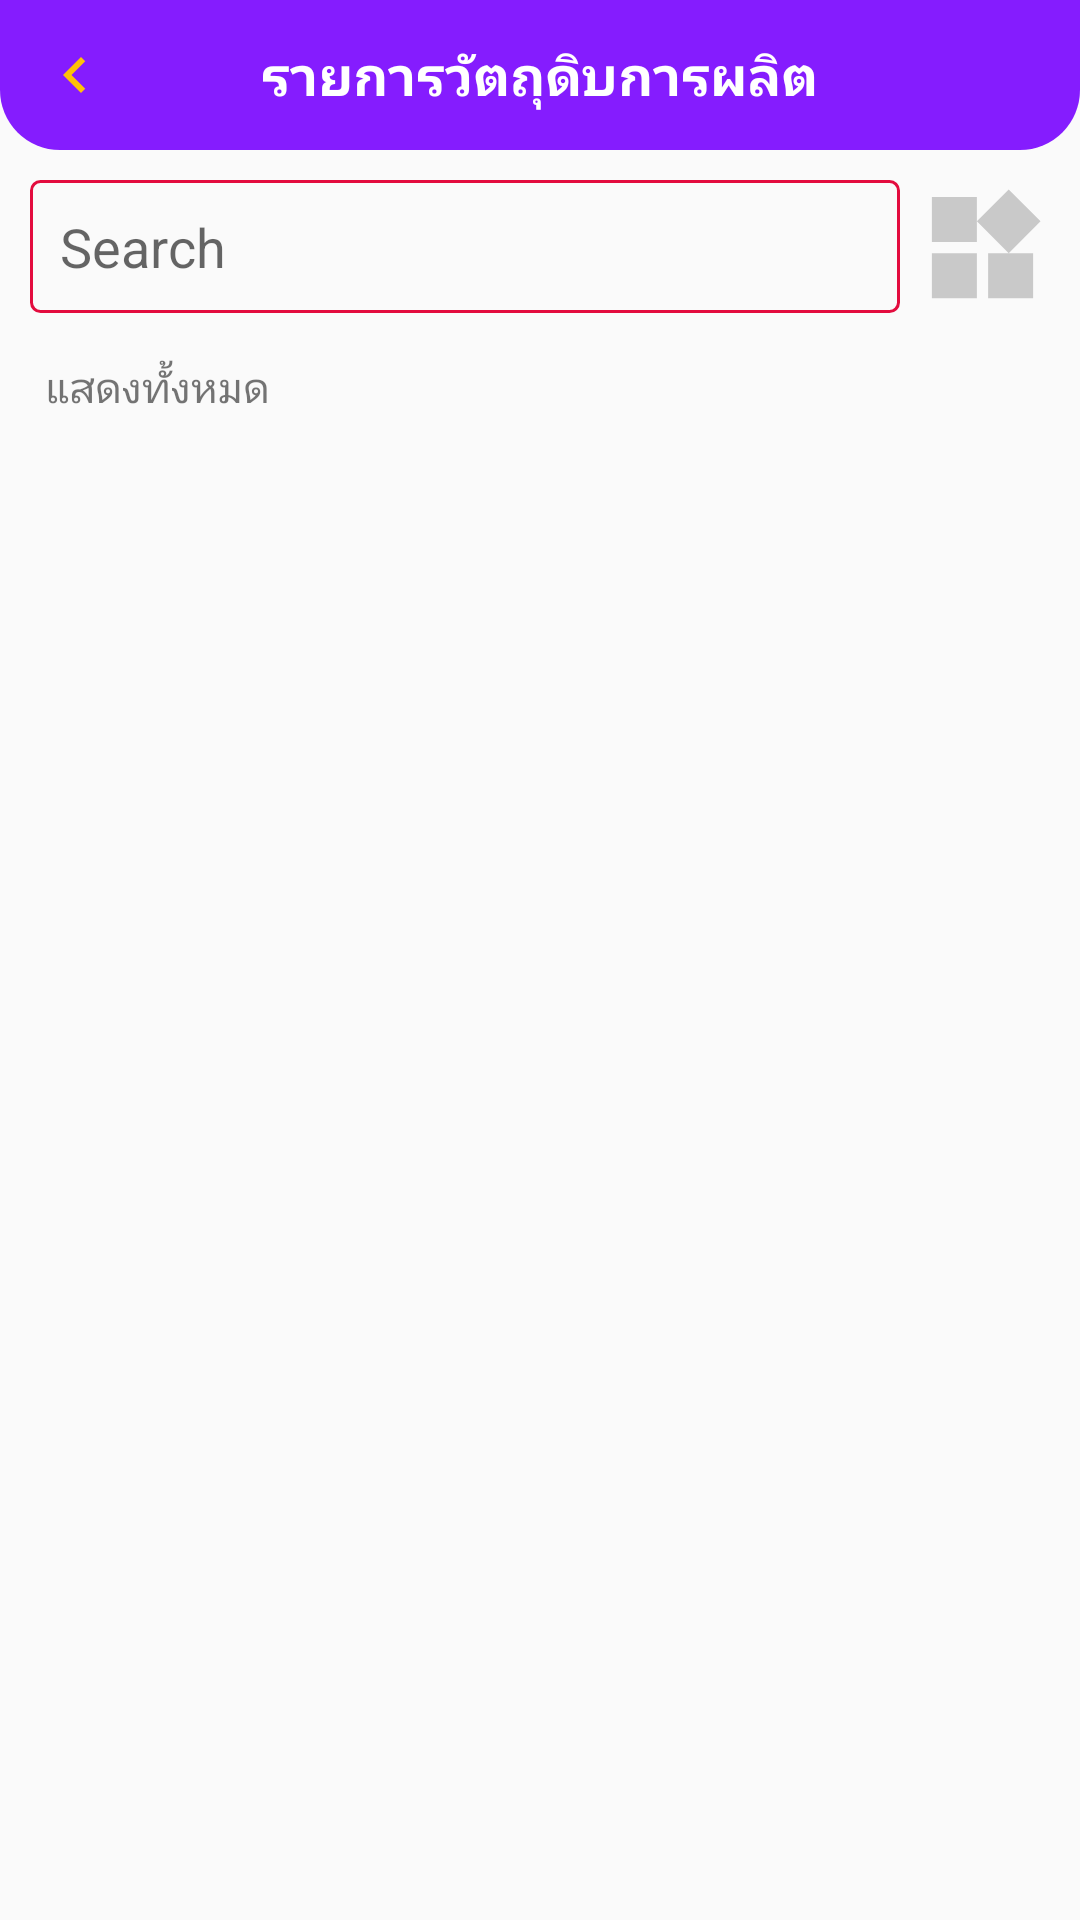

Named icons in this screenshot (1080w x 1920h) and their centers, [x,y]:
navigate before: [74,75]
widgets: [986,244]
